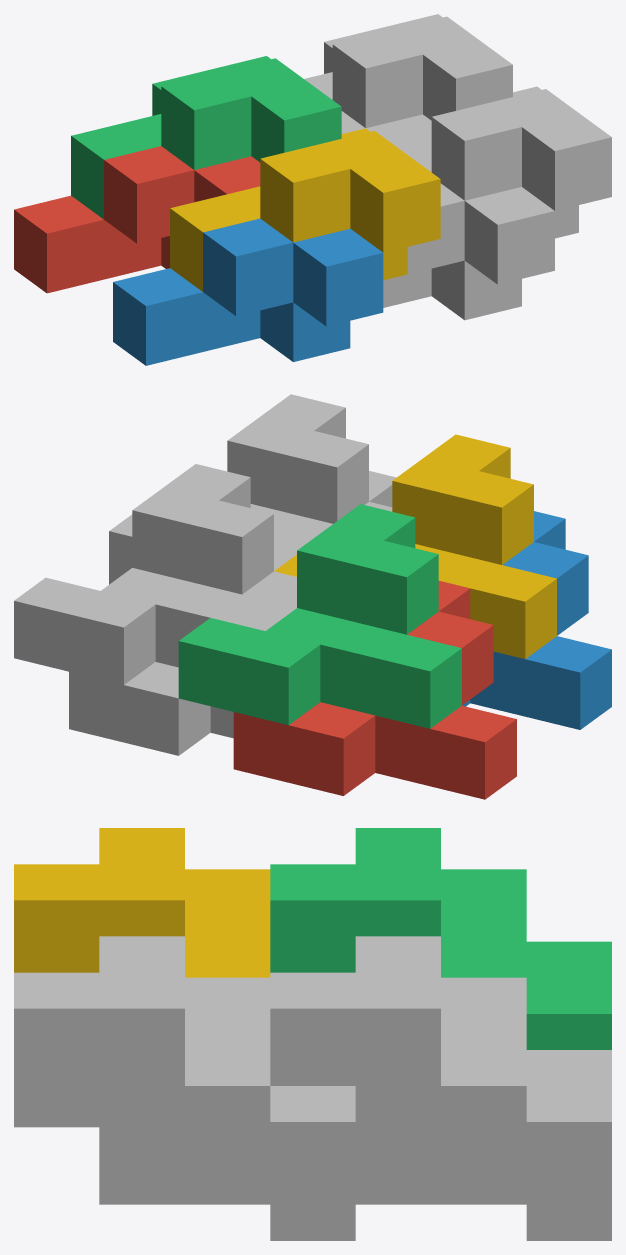
The model's file is tiling.obj.
3 views of the same model, one above another, from view 1: azimuth 30°, elevation 25°; view 2: azimuth 150°, elevation 25°; view 3: azimuth 270°, elevation 25° (orthographic). The views are drawn at different scales.
Parts seen in each view (by area): view 1: copy_1_domain_2, copy_1_domain_4, copy_1_domain_3, copy_1_domain_1, copy_1_domain_8, copy_1_domain_7, copy_1_domain_6, copy_1_domain_5; view 2: copy_1_domain_3, copy_1_domain_7, copy_1_domain_1, copy_1_domain_4, copy_1_domain_8, copy_1_domain_2, copy_1_domain_5, copy_1_domain_6; view 3: copy_1_domain_7, copy_1_domain_8, copy_1_domain_3, copy_1_domain_4, copy_1_domain_6, copy_1_domain_5.
Part boxes in pixels (<box>): copy_1_domain_2: <box>113,218,383,365</box>; copy_1_domain_4: <box>170,128,440,291</box>; copy_1_domain_3: <box>71,56,341,219</box>; copy_1_domain_1: <box>14,146,260,293</box>; copy_1_domain_8: <box>403,86,611,238</box>; copy_1_domain_7: <box>304,14,512,127</box>; copy_1_domain_6: <box>383,183,554,320</box>; copy_1_domain_5: <box>341,111,431,151</box>; copy_1_domain_3: <box>178,504,461,728</box>; copy_1_domain_7: <box>14,464,296,684</box>; copy_1_domain_1: <box>233,580,516,799</box>; copy_1_domain_4: <box>274,434,556,658</box>; copy_1_domain_8: <box>109,394,368,584</box>; copy_1_domain_2: <box>462,511,611,729</box>; copy_1_domain_5: <box>69,540,301,755</box>; copy_1_domain_6: <box>365,471,396,511</box>; copy_1_domain_7: <box>270,936,611,1199</box>; copy_1_domain_8: <box>14,936,355,1199</box>; copy_1_domain_3: <box>270,828,611,1049</box>; copy_1_domain_4: <box>14,828,270,977</box>; copy_1_domain_6: <box>14,1086,355,1240</box>; copy_1_domain_5: <box>355,1163,611,1240</box>.
Size of the model in its own units: 8 by 3 by 7.
